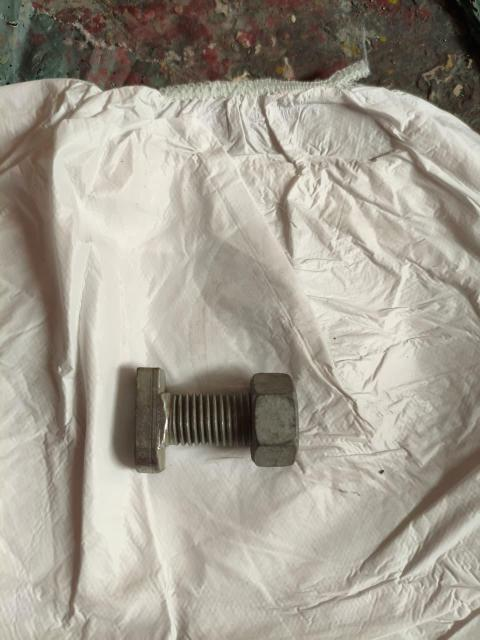Metal: (132, 358, 303, 478)
